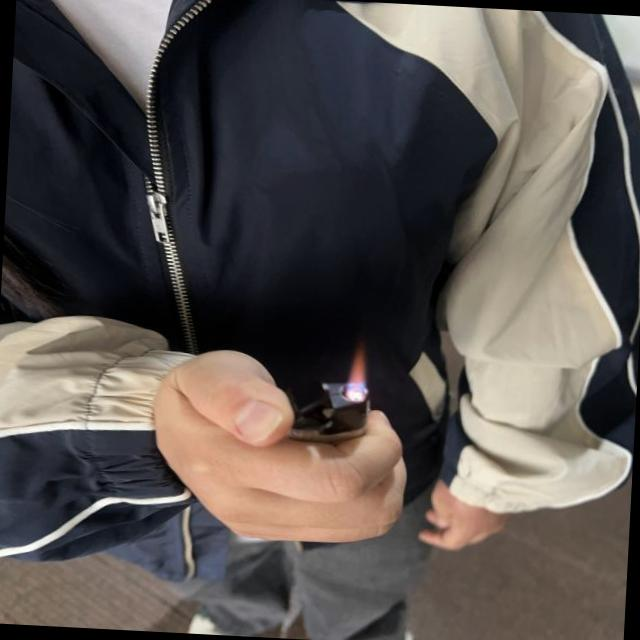fire: (348, 342, 368, 402)
